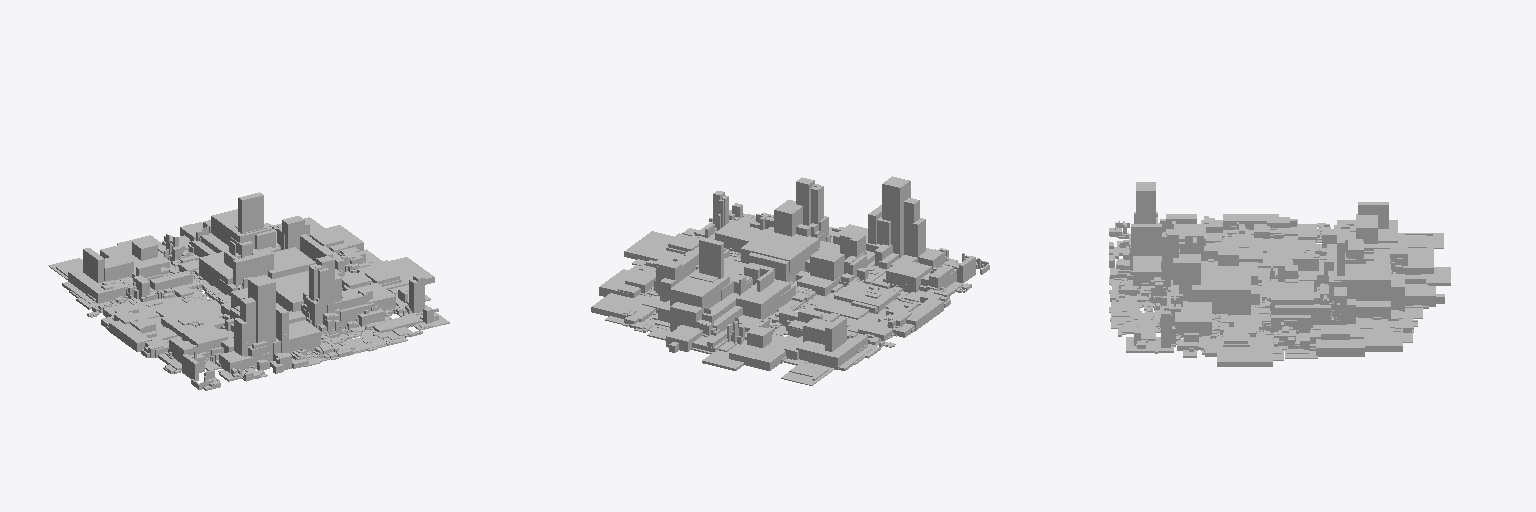
File: city1.obj
3 renders of one model, left to right at view 1: azimuth 30°, elevation 25°; view 2: azimuth 150°, elevation 25°; view 3: azimuth 270°, elevation 25°, orthographic.
Parts seen in each view (by area): view 1: mesh01; view 2: mesh01; view 3: mesh01.
Part boxes in pixels (left/top/right/bottom): mesh01: left=48, top=192, right=449, bottom=390; mesh01: left=591, top=176, right=989, bottom=385; mesh01: left=1109, top=182, right=1450, bottom=366.
Bounding box in the file's own units: 215 × 55.35 × 217.